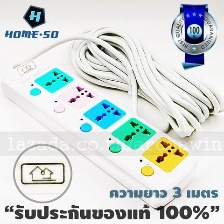three_eye_plug: (0, 56, 203, 213)
